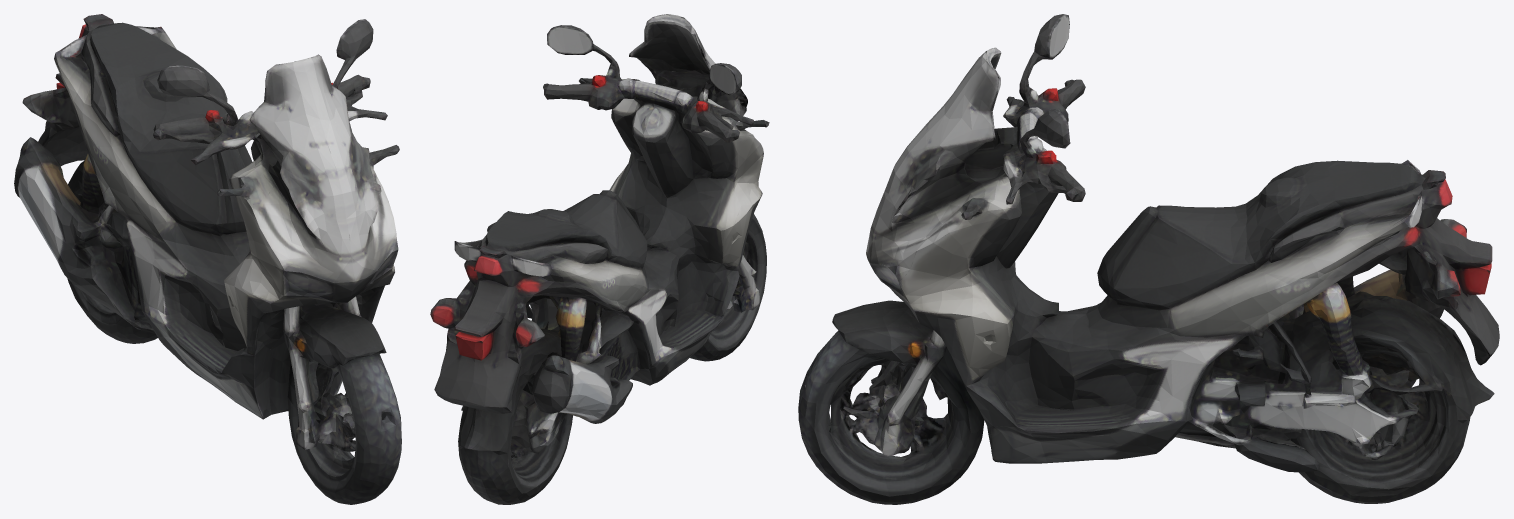
The model's file is CTV 200.glb.
The picture shows the model from 3 angles, left to right: view 1: azimuth 30°, elevation 25°; view 2: azimuth 150°, elevation 25°; view 3: azimuth 270°, elevation 25°; orthographic projection. The views are drawn at different scales.
Visible parts, largest first — view 1: world; view 2: world; view 3: world.
Boxes of the visible parts, <box> form: world: <box>14,14,401,504</box>; world: <box>430,14,769,504</box>; world: <box>798,14,1499,504</box>.
Size of the model in its own units: 0.3901 by 0.7013 by 1.
1 material, 1 textured.
